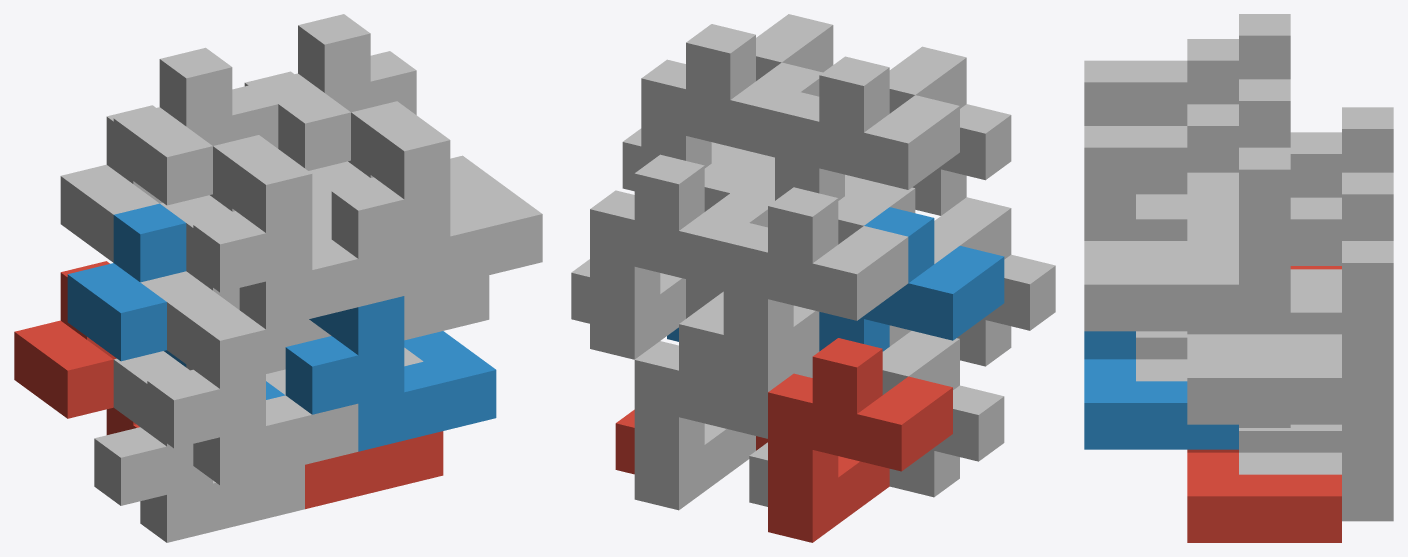
The model's file is tiling.obj.
3 views of the same model, side by side, from view 1: azimuth 30°, elevation 25°; view 2: azimuth 150°, elevation 25°; view 3: azimuth 270°, elevation 25° (orthographic). The views are drawn at different scales.
Parts seen in each view (by area): view 1: copy_2_domain_8, copy_2_domain_4, copy_2_domain_2, copy_2_domain_6, copy_2_domain_1, copy_1_domain_4, copy_1_domain_8, copy_1_domain_2, copy_1_domain_1, copy_2_domain_5, copy_1_domain_3, copy_2_domain_7 (+1 smaller); view 2: copy_1_domain_1, copy_1_domain_3, copy_1_domain_7, copy_1_domain_5, copy_1_domain_4, copy_1_domain_8, copy_1_domain_2, copy_2_domain_1, copy_2_domain_4, copy_2_domain_2, copy_2_domain_8, copy_2_domain_3 (+3 smaller); view 3: copy_2_domain_8, copy_1_domain_7, copy_1_domain_8, copy_2_domain_7, copy_2_domain_5, copy_2_domain_6, copy_2_domain_4, copy_1_domain_5, copy_1_domain_4, copy_1_domain_3, copy_2_domain_1, copy_1_domain_6 (+2 smaller).
Part boxes in pixels (left/top/right/bottom): copy_2_domain_8: left=331, top=101, right=542, bottom=295; copy_2_domain_4: left=193, top=135, right=404, bottom=329; copy_2_domain_2: left=147, top=291, right=358, bottom=485; copy_2_domain_6: left=285, top=296, right=496, bottom=451; copy_2_domain_1: left=94, top=351, right=304, bottom=542; copy_1_domain_4: left=113, top=47, right=331, bottom=243; copy_1_domain_8: left=252, top=14, right=469, bottom=210; copy_1_domain_2: left=67, top=203, right=284, bottom=399; copy_1_domain_1: left=14, top=261, right=139, bottom=434; copy_2_domain_5: left=305, top=431, right=443, bottom=509; copy_1_domain_3: left=60, top=105, right=162, bottom=262; copy_2_domain_7: left=309, top=161, right=489, bottom=340; copy_1_domain_1: left=768, top=338, right=952, bottom=542; copy_1_domain_3: left=723, top=187, right=908, bottom=392; copy_1_domain_7: left=590, top=154, right=771, bottom=359; copy_1_domain_5: left=634, top=305, right=812, bottom=510; copy_1_domain_4: left=775, top=56, right=959, bottom=200; copy_1_domain_8: left=641, top=24, right=822, bottom=168; copy_1_domain_2: left=819, top=207, right=1004, bottom=351; copy_2_domain_1: left=749, top=331, right=1004, bottom=506; copy_2_domain_4: left=756, top=46, right=1011, bottom=215; copy_2_domain_2: left=934, top=197, right=1055, bottom=366; copy_2_domain_8: left=622, top=14, right=833, bottom=191; copy_2_domain_3: left=705, top=180, right=959, bottom=346; copy_2_domain_8: left=1084, top=126, right=1238, bottom=331; copy_1_domain_7: left=1239, top=172, right=1393, bottom=402; copy_1_domain_8: left=1136, top=79, right=1290, bottom=309; copy_2_domain_7: left=1187, top=219, right=1341, bottom=424; copy_2_domain_5: left=1187, top=449, right=1341, bottom=542; copy_2_domain_6: left=1084, top=331, right=1238, bottom=449; copy_2_domain_4: left=1084, top=60, right=1238, bottom=240; copy_1_domain_5: left=1239, top=403, right=1393, bottom=521; copy_1_domain_4: left=1136, top=14, right=1290, bottom=197; copy_1_domain_3: left=1290, top=107, right=1393, bottom=290; copy_2_domain_1: left=1239, top=424, right=1341, bottom=452; copy_1_domain_6: left=1136, top=309, right=1290, bottom=427.
Size of the model in its own units: 8 by 9 by 6.
